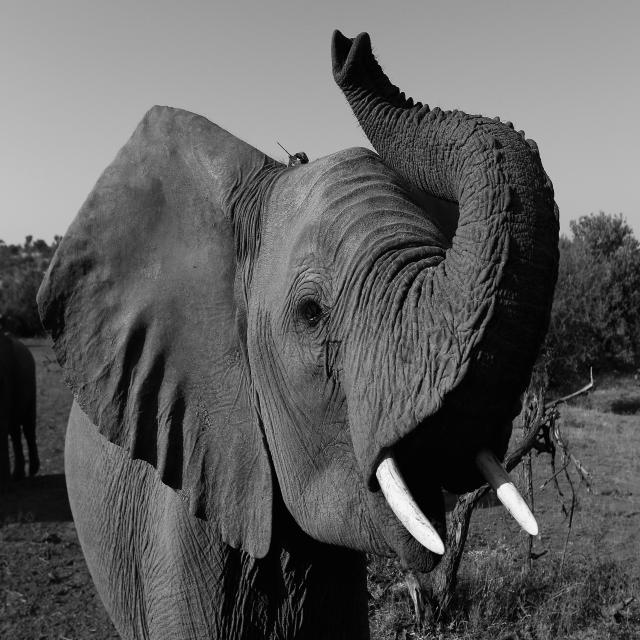Elephant: (36, 28, 560, 639), (0, 328, 40, 484)
